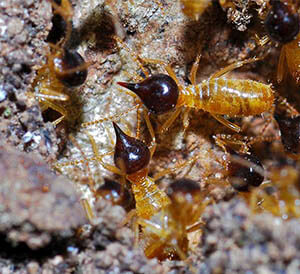nasutitermes corniger: (78, 109, 207, 274), (98, 36, 281, 137), (18, 27, 112, 137)
